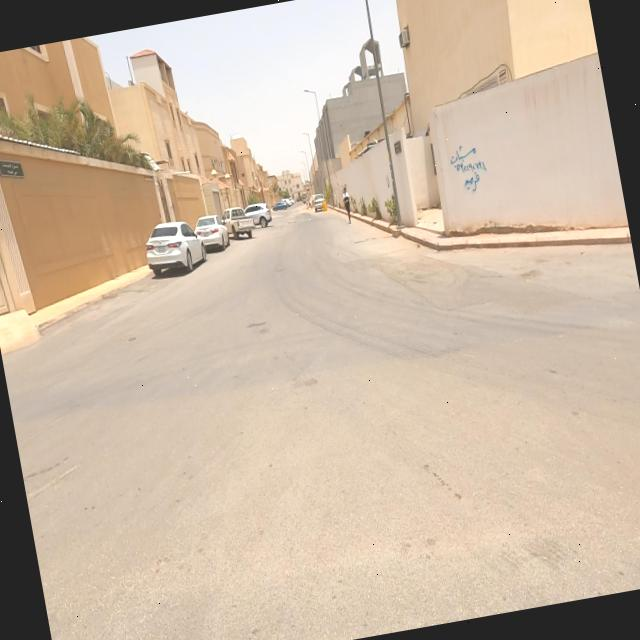Graffiti: (450, 144, 491, 197)
